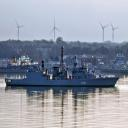Fragata: (6, 45, 121, 87)
